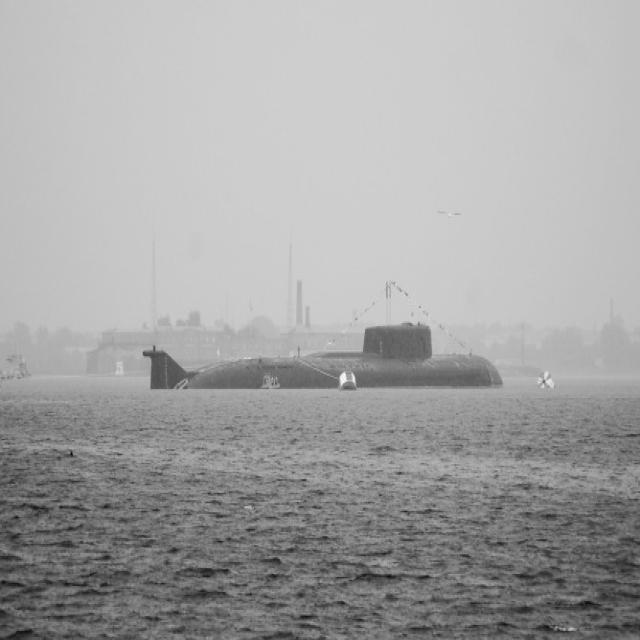submarine: (151, 308, 548, 395)
